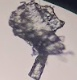microplastic: (6, 1, 68, 56), (28, 55, 50, 80)
